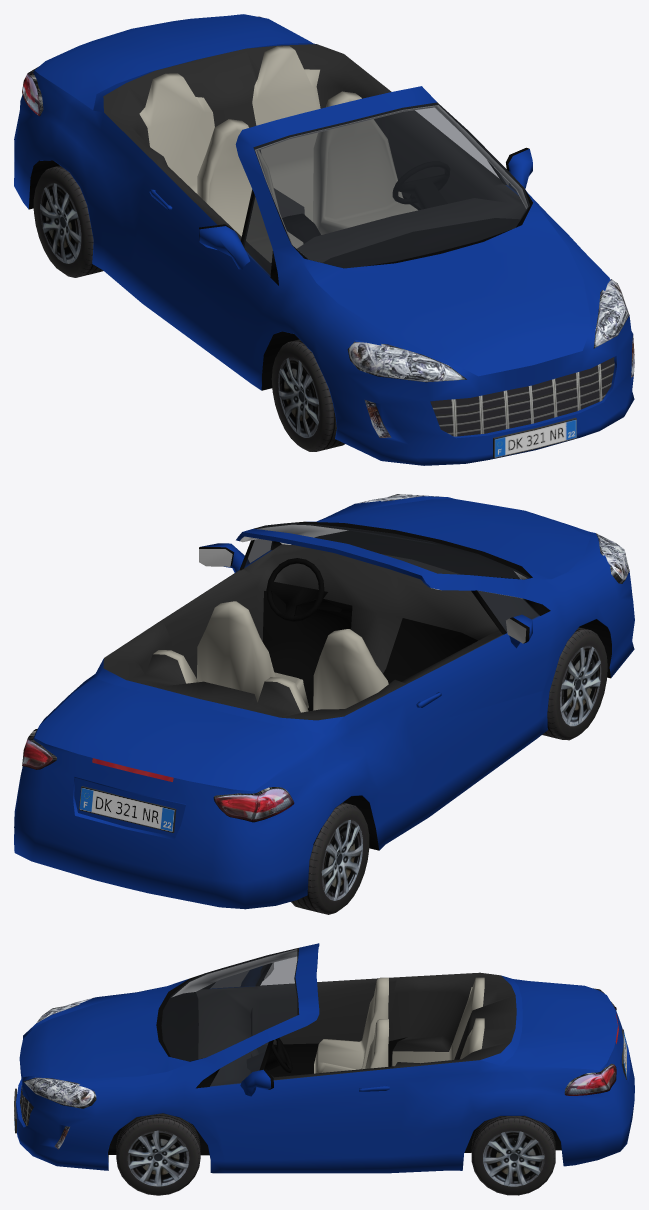
Rendered from decapotable.obj.
The picture shows the model from 3 angles, top to bottom: view 1: azimuth 30°, elevation 25°; view 2: azimuth 150°, elevation 25°; view 3: azimuth 270°, elevation 25°; orthographic projection. The views are drawn at different scales.
Parts seen in each view (by area): view 1: car, Glass, wheels, FrontLights, LicensePlates, steering_wheel, RearLights; view 2: car, wheels, Glass, RearLights, LicensePlates, steering_wheel, FrontLights, sweethome3d_window_mirror; view 3: car, wheels, Glass, FrontLights, RearLights, steering_wheel.
Part boxes in pixels (x1,y1,x2,y2): car: (14, 14, 634, 465); Glass: (243, 102, 529, 276); wheels: (33, 165, 344, 451); FrontLights: (347, 279, 629, 382); LicensePlates: (493, 417, 576, 458); steering_wheel: (392, 161, 450, 209); RearLights: (22, 16, 261, 116); car: (14, 496, 634, 909); wheels: (291, 627, 607, 914); Glass: (244, 523, 539, 632); RearLights: (22, 729, 294, 822); LicensePlates: (79, 786, 176, 832); steering_wheel: (266, 558, 342, 621); FrontLights: (356, 494, 629, 583); sweethome3d_window_mirror: (199, 549, 526, 643); car: (16, 943, 634, 1173); wheels: (116, 1113, 555, 1195); Glass: (161, 948, 298, 1086); FrontLights: (23, 997, 96, 1108); RearLights: (564, 988, 616, 1095); steering_wheel: (247, 1038, 292, 1072).
Size of the model in its own units: 210 by 141 by 459.
